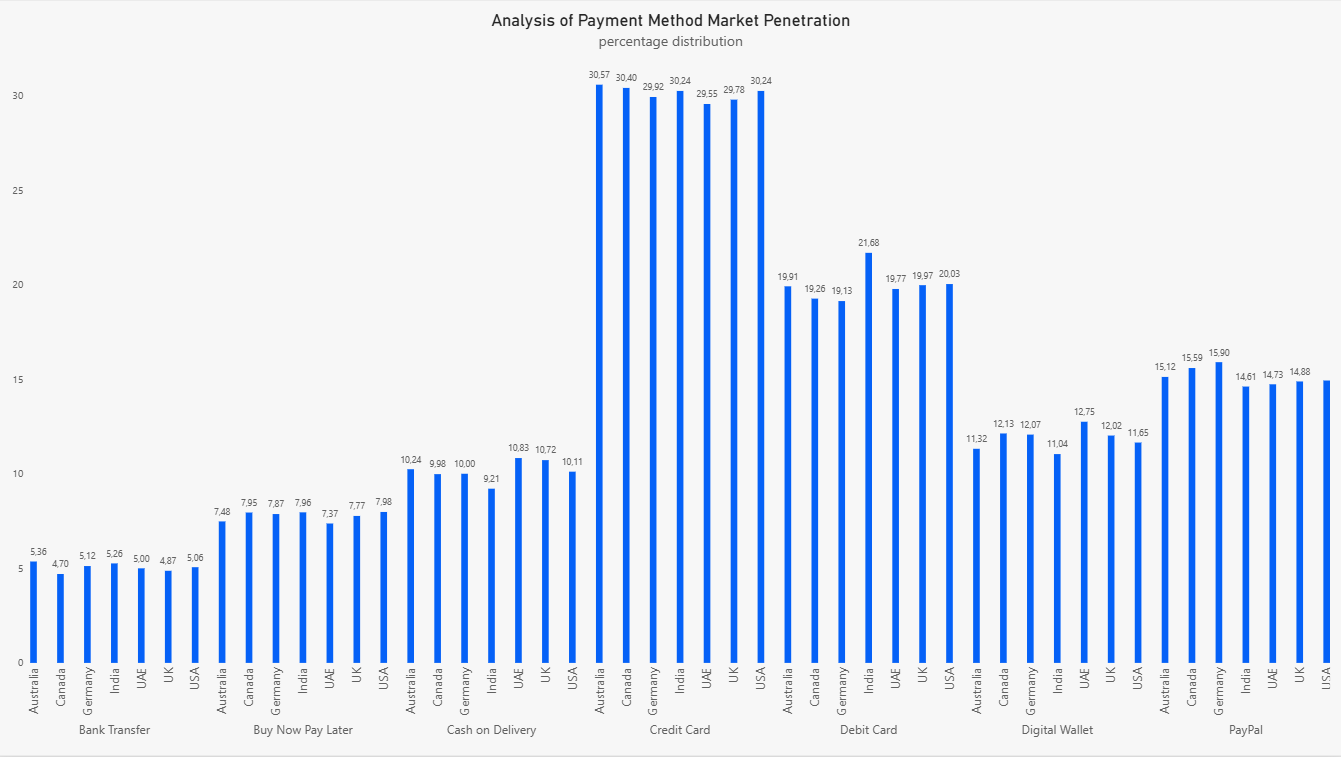

The dashboard page shown, as its layout file describes it:
{"tool":"powerbi","page":{"name":"Strona 3","canvas":[1920,1080],"ordinal":2},"visuals":[{"type":"columnChart","title":"Analysis of Payment Method Market Penetration","fields":{"Category":["vw_percentage_share_payment_method_analysis_202609261514.payment_method","vw_percentage_share_payment_method_analysis_202609261514.customer_country"],"Y":["Sum(vw_percentage_share_payment_method_analysis_202609261514.pct_share_within_country)"]},"box":[0,0,1920,1080],"z":0}]}

Visuals, with their boxes in screenshot pixels (x1, y1, x2, y2), scaled from the page's 1920x1080 canvas onto the 1341x757 screenshot:
"Analysis of Payment Method Market Penetration" columnChart: <region>0, 0, 1340, 756</region>
